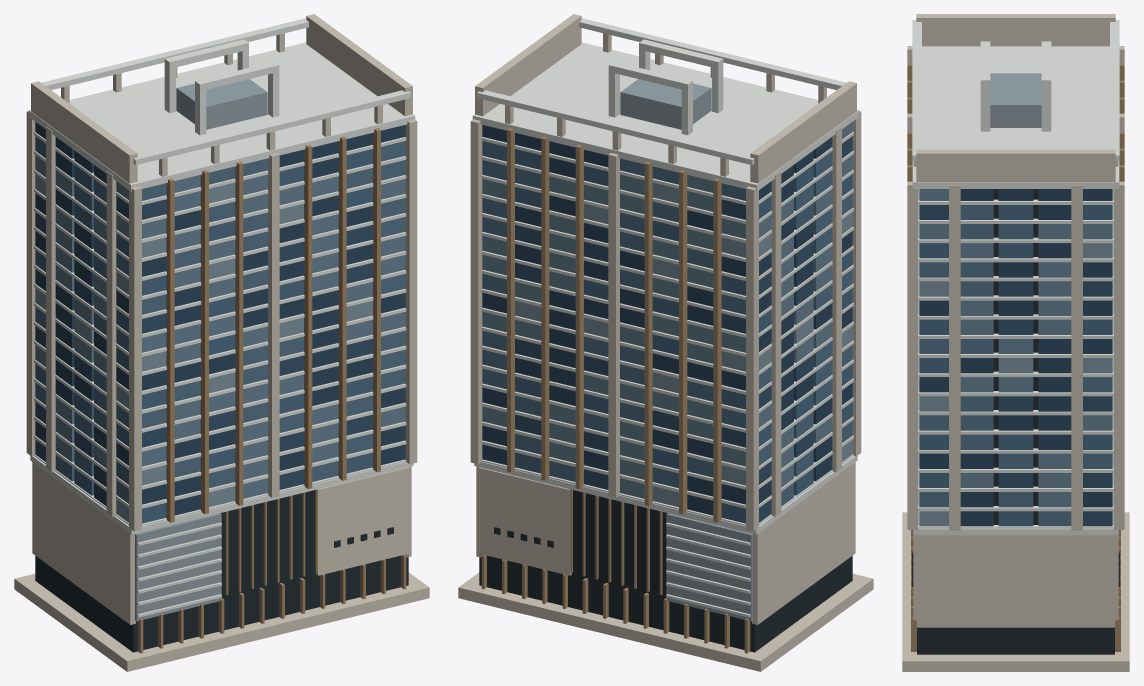
Rendered from limestone-glass-tower.glb.
3 views of the same model, side by side, from view 1: azimuth 30°, elevation 25°; view 2: azimuth 150°, elevation 25°; view 3: azimuth 270°, elevation 25° (orthographic).
Visible parts, largest first — view 1: Pale limestone (×2), Ivory slab edges (×2), Warm metal mullions (×2), Blue glazing 6, Blue glazing 4, Recessed graphite metal, Blue glazing 2, Anodized aluminum (×2), Blue glazing 1, Blue glazing 3, Blue glazing 5; view 2: Pale limestone (×2), Ivory slab edges (×2), Warm metal mullions (×2), Blue glazing 6, Blue glazing 4, Blue glazing 2, Recessed graphite metal, Anodized aluminum (×2), Blue glazing 1, Blue glazing 3, Blue glazing 5; view 3: Pale limestone (×2), Ivory slab edges (×2), Blue glazing 6, Blue glazing 4, Blue glazing 2, Recessed graphite metal (×2), Blue glazing 1, Blue glazing 3, Blue glazing 5, Anodized aluminum, Warm metal mullions (×2).
Boxes of the visible parts, bbox=[...] form: Pale limestone (×2): bbox=[14, 14, 429, 671]; Ivory slab edges (×2): bbox=[28, 18, 415, 617]; Warm metal mullions (×2): bbox=[137, 128, 406, 653]; Blue glazing 6: bbox=[35, 122, 405, 515]; Blue glazing 4: bbox=[35, 155, 405, 498]; Recessed graphite metal: bbox=[35, 490, 408, 652]; Blue glazing 2: bbox=[35, 141, 405, 503]; Anodized aluminum (×2): bbox=[135, 79, 267, 621]; Blue glazing 1: bbox=[35, 136, 372, 523]; Blue glazing 3: bbox=[35, 195, 372, 489]; Blue glazing 5: bbox=[35, 174, 372, 522]; Pale limestone (×2): bbox=[458, 14, 873, 671]; Ivory slab edges (×2): bbox=[472, 18, 859, 617]; Warm metal mullions (×2): bbox=[481, 128, 750, 653]; Blue glazing 6: bbox=[482, 125, 852, 515]; Blue glazing 4: bbox=[482, 122, 852, 498]; Blue glazing 2: bbox=[482, 141, 852, 506]; Recessed graphite metal: bbox=[479, 490, 852, 652]; Anodized aluminum (×2): bbox=[620, 79, 752, 621]; Blue glazing 1: bbox=[515, 149, 852, 523]; Blue glazing 3: bbox=[515, 136, 852, 522]; Blue glazing 5: bbox=[515, 182, 852, 507]; Pale limestone (×2): bbox=[902, 14, 1129, 671]; Ivory slab edges (×2): bbox=[912, 20, 1119, 535]; Blue glazing 6: bbox=[918, 189, 1113, 526]; Blue glazing 4: bbox=[918, 189, 1113, 507]; Blue glazing 2: bbox=[918, 205, 1113, 526]; Recessed graphite metal (×2): bbox=[912, 189, 1119, 654]; Blue glazing 1: bbox=[919, 205, 1112, 526]; Blue glazing 3: bbox=[919, 205, 1112, 526]; Blue glazing 5: bbox=[919, 243, 1112, 526]; Anodized aluminum: bbox=[990, 73, 1041, 127]; Warm metal mullions (×2): bbox=[907, 63, 1124, 651].
Size of the model in its own units: 4.72 by 7.93 by 3.05.
